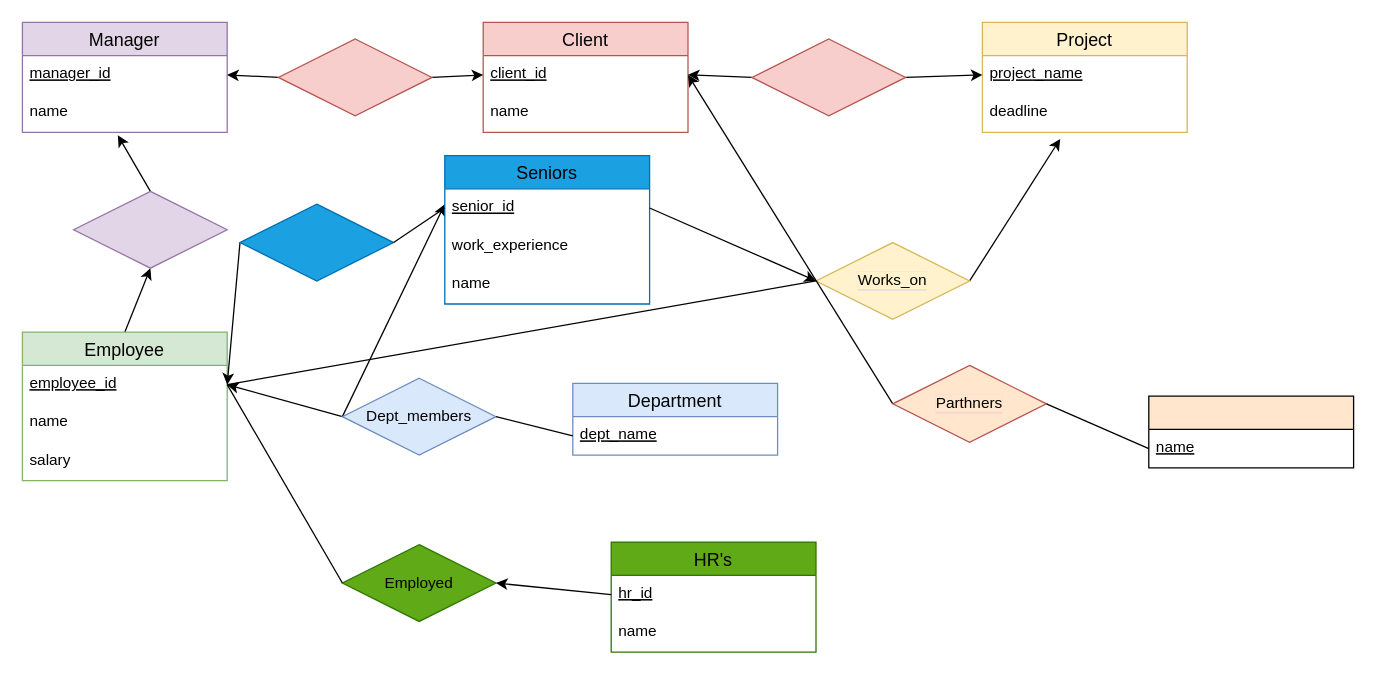
The diagram is 1376 pixels wide and 678 high, and some of its shapes have lost their labels. Here are the shapes that lost their labels. From the top down, the box of each, then its label:
(277, 38, 432, 116): Contract
(751, 38, 906, 116): Order
(72, 190, 227, 268): Supervisor
(239, 203, 394, 281): Mentors
(1148, 395, 1354, 468): Company
